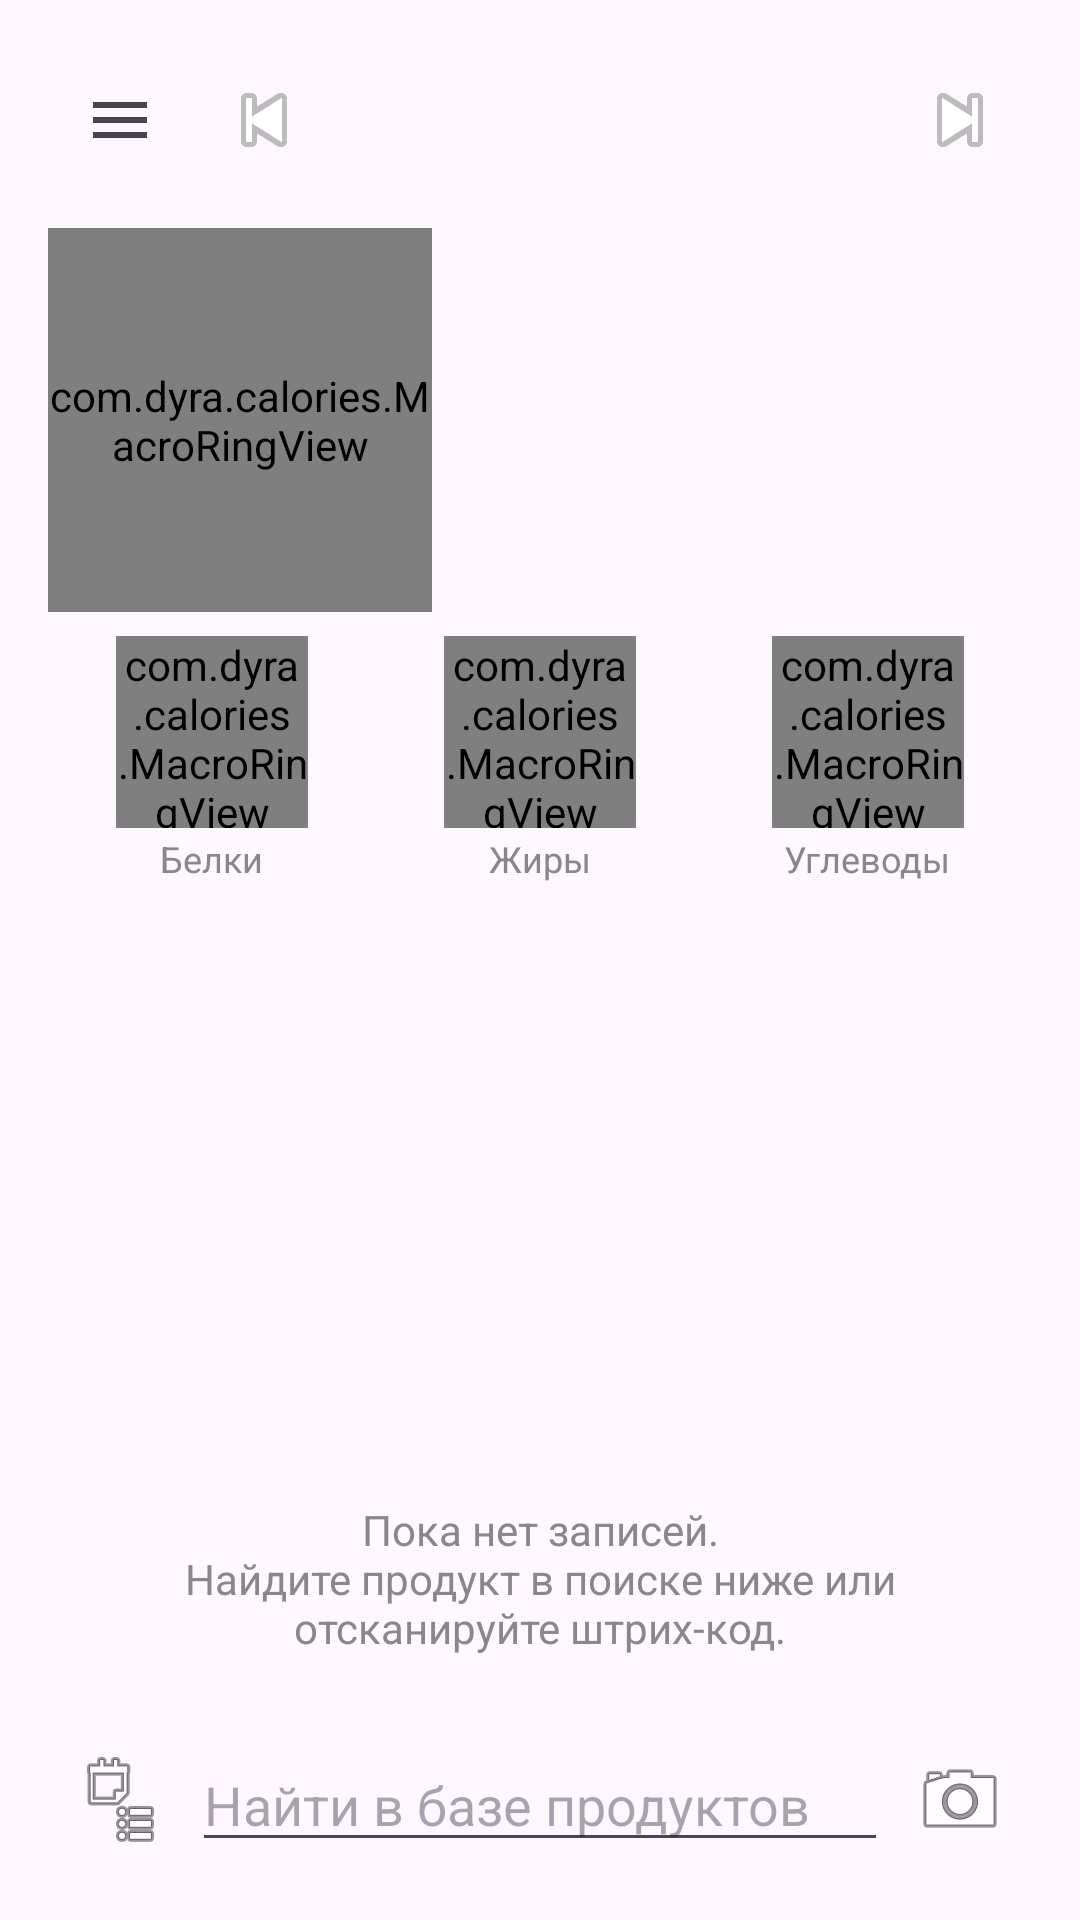

Point at icon controls on the screen. Image size 1080px x 1920px, points as (x,y).
База продуктов: (120,1799)
Меню: (120,120)
Предыдущий день: (264,120)
Сканировать код: (960,1798)
Следующий день: (960,120)
